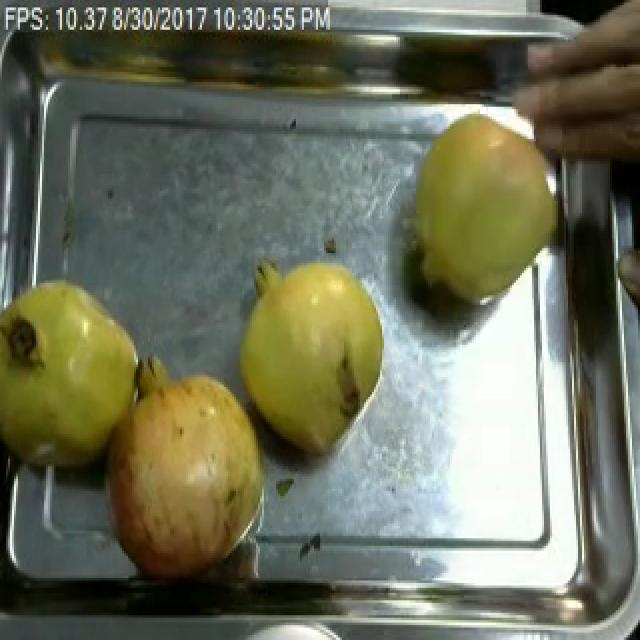fruit: (84, 352, 308, 598), (226, 233, 394, 457), (402, 99, 568, 318), (2, 260, 156, 484), (612, 233, 640, 325)
